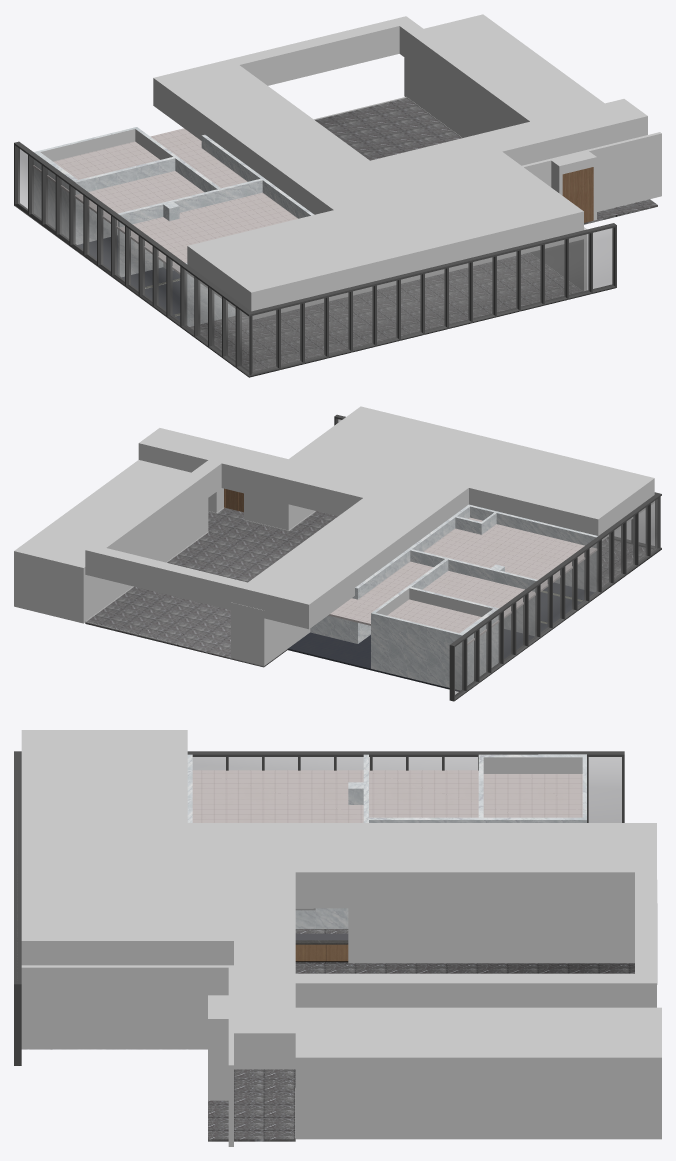
The model's file is EnviKitchen_F01.fbx.
3 views of the same model, one above another, from view 1: azimuth 30°, elevation 25°; view 2: azimuth 150°, elevation 25°; view 3: azimuth 270°, elevation 25° (orthographic). The views are drawn at different scales.
Parts seen in each view (by area): view 1: Atap, KacaBesar, LantaiGranit, TembokBasic, AtapDapur, FrameJendela02, TembokKeramik_07, FrameJendela01, FrameJendela03, FrameJendela04, Tembok_Keramik_03, Tembok_Keramik_01 (+3 smaller); view 2: Atap, TembokBasic, LantaiGranit, AtapDapur, KacaBesar, TembokKeramik_07, FrameJendela02, LantaiDapur, Tembok_Keramik_01, Tembok_Keramik_02, Tembok_Keramik_03, FrameJendela03 (+3 smaller); view 3: Atap, TembokBasic, AtapDapur, LantaiGranit, KacaBesar, FrameJendela03, TembokKeramik_07, Tembok_Keramik_01, TembokKayu, TiangTembokBasic, FrameJendela02, FrameJendela01.
Boxes of the visible parts, bbox=[...] form: Atap: bbox=[153, 16, 647, 319]; KacaBesar: bbox=[18, 148, 613, 373]; LantaiGranit: bbox=[190, 98, 657, 371]; TembokBasic: bbox=[40, 14, 661, 291]; AtapDapur: bbox=[33, 128, 297, 274]; FrameJendela02: bbox=[14, 141, 252, 375]; TembokKeramik_07: bbox=[34, 127, 220, 244]; FrameJendela01: bbox=[276, 225, 616, 370]; FrameJendela03: bbox=[15, 142, 616, 316]; FrameJendela04: bbox=[15, 203, 615, 377]; Tembok_Keramik_03: bbox=[117, 178, 262, 277]; Tembok_Keramik_01: bbox=[201, 134, 314, 218]; Atap: bbox=[85, 406, 654, 629]; TembokBasic: bbox=[14, 460, 492, 665]; LantaiGranit: bbox=[85, 508, 652, 667]; AtapDapur: bbox=[328, 517, 597, 645]; KacaBesar: bbox=[337, 419, 657, 696]; TembokKeramik_07: bbox=[371, 559, 498, 690]; FrameJendela02: bbox=[449, 493, 660, 701]; LantaiDapur: bbox=[287, 582, 594, 691]; Tembok_Keramik_01: bbox=[310, 506, 469, 643]; Tembok_Keramik_02: bbox=[467, 504, 597, 592]; Tembok_Keramik_03: bbox=[410, 549, 537, 636]; FrameJendela03: bbox=[334, 414, 661, 646]; Atap: bbox=[21, 730, 656, 1069]; TembokBasic: bbox=[21, 757, 661, 1146]; AtapDapur: bbox=[192, 770, 582, 822]; LantaiGranit: bbox=[22, 929, 634, 1141]; KacaBesar: bbox=[192, 757, 621, 822]; FrameJendela03: bbox=[14, 751, 624, 986]; TembokKeramik_07: bbox=[368, 754, 586, 822]; Tembok_Keramik_01: bbox=[295, 908, 348, 928]; TembokKayu: bbox=[295, 944, 348, 961]; TiangTembokBasic: bbox=[348, 908, 363, 963]; FrameJendela02: bbox=[14, 751, 624, 822]; FrameJendela01: bbox=[14, 770, 21, 1065].
Bounding box in the file's own units: 2890 × 465 × 2520.
